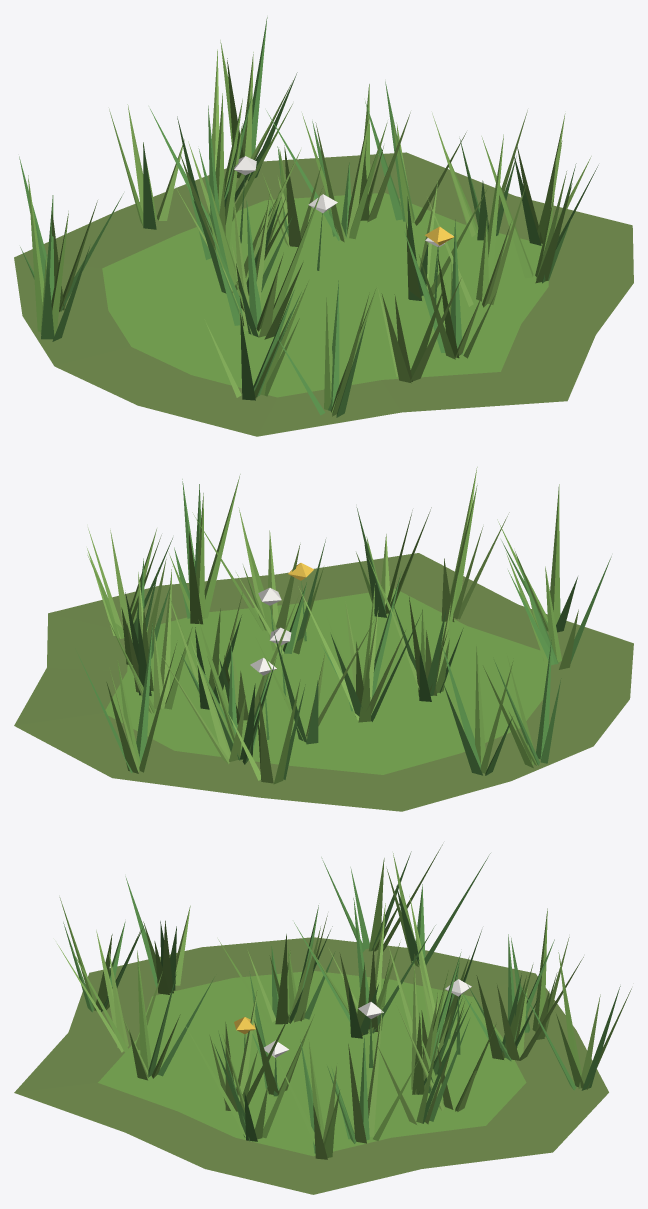
The model's file is SC_Nat_Grass_Patch.gltf.
The picture shows the model from 3 angles, top to bottom: view 1: azimuth 30°, elevation 25°; view 2: azimuth 150°, elevation 25°; view 3: azimuth 270°, elevation 25°; orthographic projection. The views are drawn at different scales.
Visible parts, largest first — view 1: SC_Nat_Grass_Patch; view 2: SC_Nat_Grass_Patch; view 3: SC_Nat_Grass_Patch.
Boxes of the visible parts, bbox=[...] form: SC_Nat_Grass_Patch: bbox=[14, 17, 633, 436]; SC_Nat_Grass_Patch: bbox=[14, 467, 633, 811]; SC_Nat_Grass_Patch: bbox=[14, 844, 631, 1194].
Bounding box in the file's own units: 1.14 × 0.2591 × 1.16.
1 material, 1 textured.
